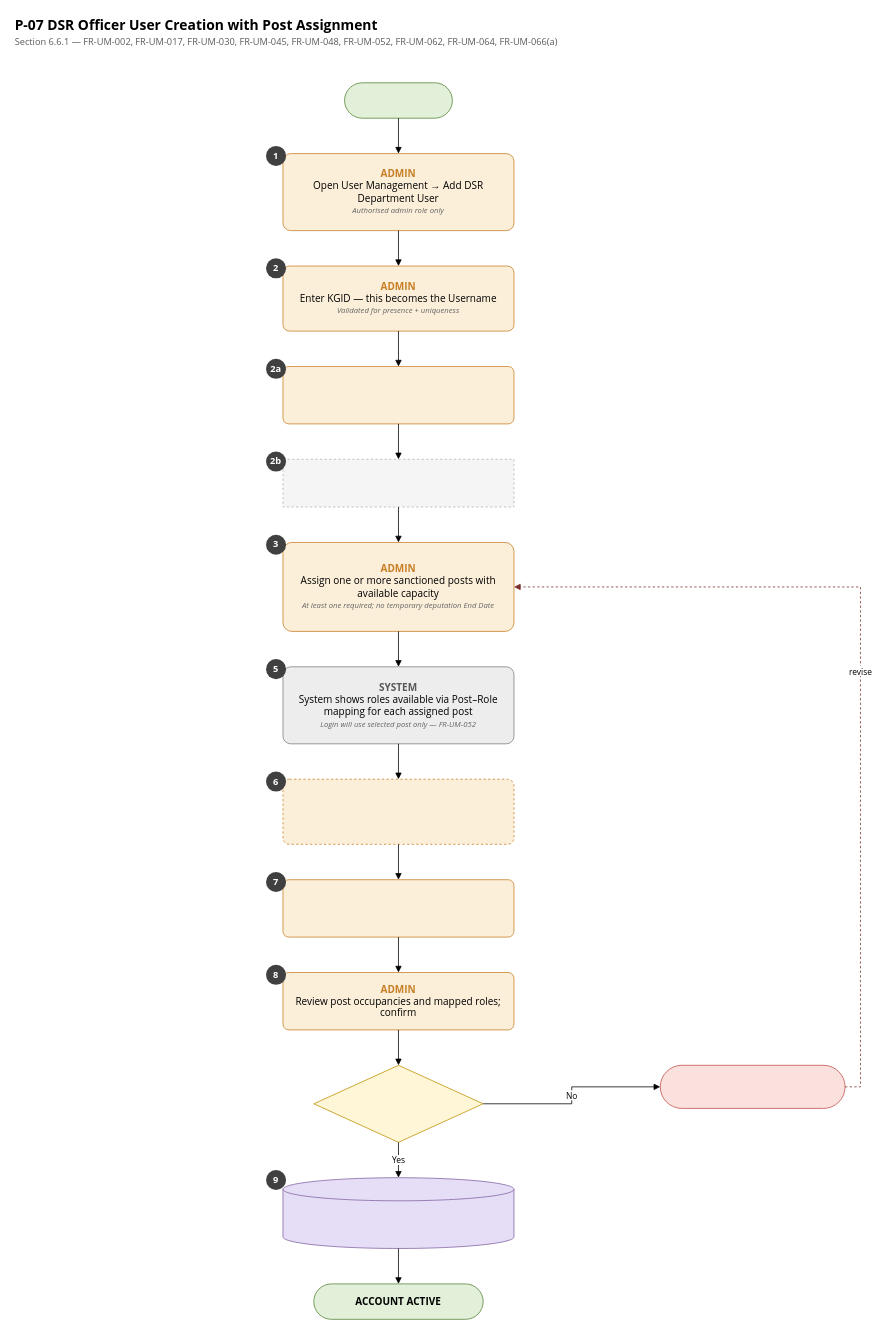
The diagram is 889 pixels wide and 1333 high, and some of its shapes have lost their labels. Each missing label, with the centre of its shape:
ADMIN / OFFICER Capture face authentication template or biometrics (mandatory): the point at 398,908
ADMIN Enter remaining particulars (name, mobile, photo, ID proof) — no email ID: the point at 398,395
ADMIN Upload approval letter where applicable Recommended, not mandatory: the point at 398,811
BLOCKED — assign a valid post: the point at 752,1086
No security questions captured for this category: the point at 398,483
Post assigned & within sanctioned strength?: the point at 398,1103
START: the point at 398,100
SYSTEM Save — account active; occupied count updated per assigned post: the point at 398,1212
